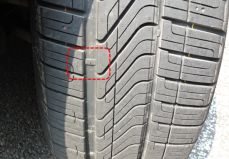middle_condition: (37, 2, 225, 159)
